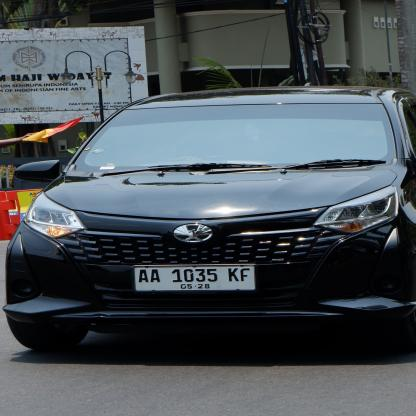Plat-Nomor: (134, 264, 256, 292)
